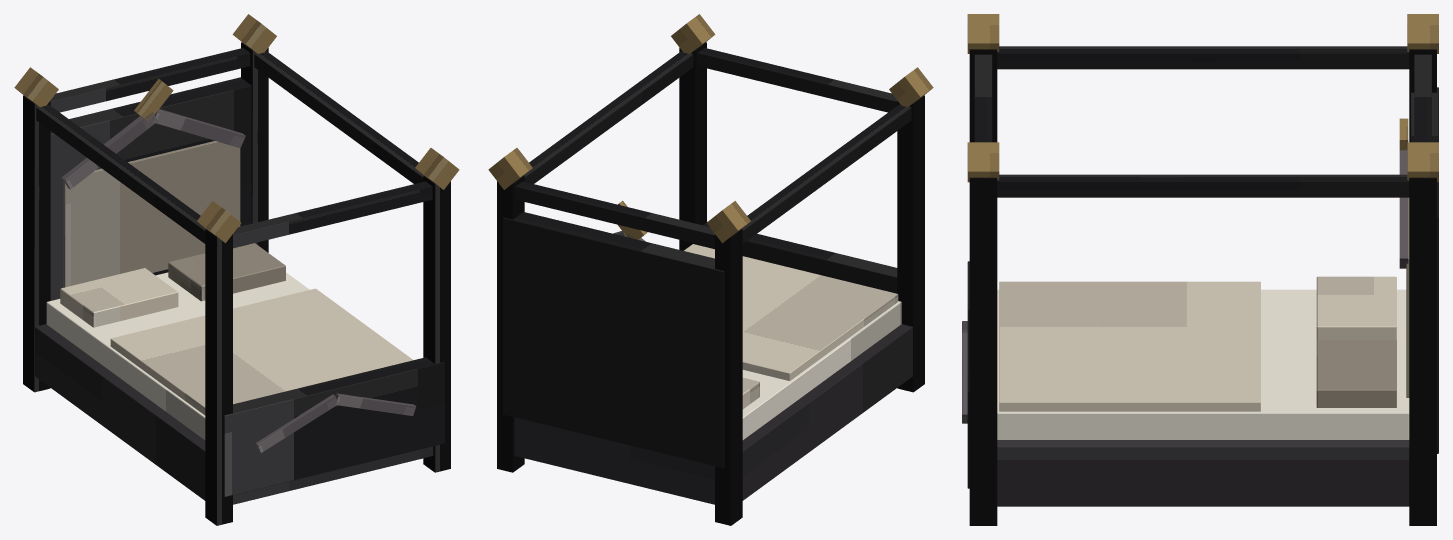
File: gothic_double_bed_ivory.glb
The picture shows the model from 3 angles, left to right: view 1: azimuth 30°, elevation 25°; view 2: azimuth 150°, elevation 25°; view 3: azimuth 270°, elevation 25°; orthographic projection. The views are drawn at different scales.
Visible parts, largest first — view 1: GothicFootboard, GothicBlanket, HeadboardVelvet, GothicBedFrame, TallHeadboard, GothicMattress, FootPostL, HeadPostL, FootPostR, GothicPillow_1, CanopySideL, CanopySideR (+13 smaller); view 2: TallHeadboard, GothicBedFrame, GothicBlanket, FootPostL, HeadPostL, GothicMattress, FootPostR, CanopySideL, CanopySideR, CanopyHeadRail, GothicFootboard, CanopyFootRail (+5 smaller); view 3: GothicBlanket, GothicBedFrame, GothicMattress, FootPostR, CanopySideL, CanopySideR, HeadPostR, GothicPillow_2, GothicPillow_1, CanopyFootRail, CanopyHeadRail, FootPostL (+10 smaller).
Boxes of the visible parts, box(x1,y1,x2,y2) form: GothicFootboard: box(223, 357, 444, 496); GothicBlanket: box(110, 288, 413, 415); HeadboardVelvet: box(63, 141, 240, 287); GothicBedFrame: box(35, 324, 433, 504); TallHeadboard: box(50, 77, 251, 300); GothicMattress: box(46, 272, 309, 439); FootPostL: box(205, 229, 232, 525); HeadPostL: box(23, 95, 50, 392); FootPostR: box(423, 175, 450, 472); GothicPillow_1: box(60, 268, 178, 327); CanopySideL: box(36, 104, 205, 243); CanopySideR: box(254, 51, 423, 183); TallHeadboard: box(503, 212, 724, 468); GothicBedFrame: box(514, 324, 912, 504); GothicBlanket: box(684, 244, 898, 380); FootPostL: box(897, 95, 924, 392); HeadPostL: box(715, 229, 742, 525); GothicMattress: box(742, 301, 901, 439); FootPostR: box(679, 42, 706, 250); CanopySideL: box(742, 104, 911, 243); CanopySideR: box(524, 51, 693, 183); CanopyHeadRail: box(515, 181, 714, 248); GothicFootboard: box(697, 221, 897, 293); CanopyFootRail: box(697, 48, 897, 112); GothicBlanket: box(999, 281, 1260, 411); GothicBedFrame: box(997, 440, 1409, 506); GothicMattress: box(997, 289, 1409, 439); FootPostR: box(969, 177, 997, 525); CanopySideL: box(997, 46, 1409, 69); CanopySideR: box(997, 174, 1409, 197); HeadPostR: box(1409, 177, 1436, 525); GothicPillow_2: box(1316, 340, 1396, 407); GothicPillow_1: box(1316, 276, 1396, 340); CanopyFootRail: box(974, 54, 992, 142); CanopyHeadRail: box(1414, 54, 1431, 142); FootPostL: box(969, 49, 997, 142).
Size of the model in its own units: 1.99 by 2.4 by 2.73.
1 material, 1 textured.
